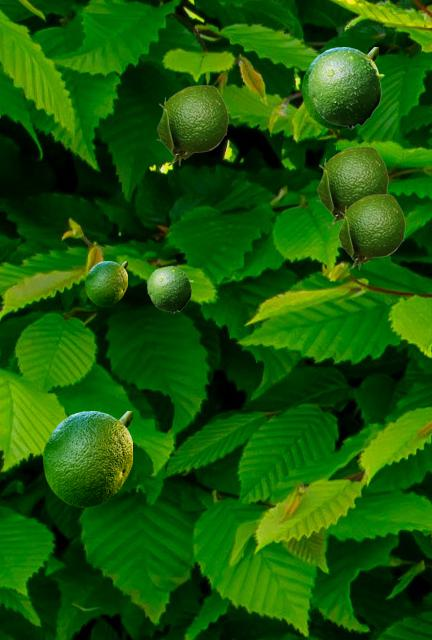dalandan: (43, 411, 131, 506), (302, 47, 377, 128), (308, 50, 383, 128), (316, 146, 387, 226), (156, 85, 227, 165), (337, 194, 404, 269), (147, 266, 192, 312), (85, 261, 126, 305)
